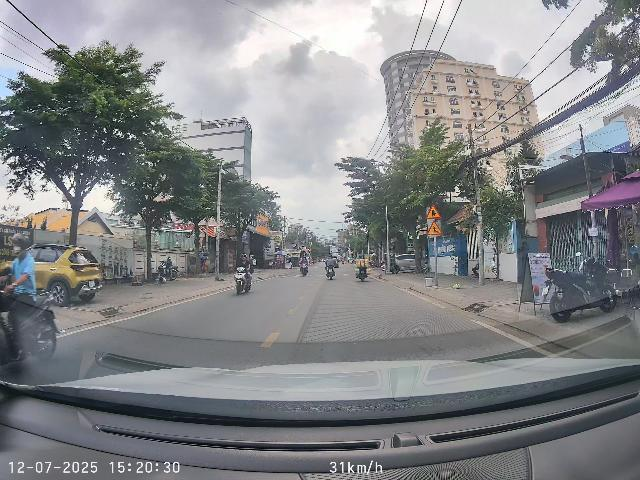207-giao-nhau-voi-duong-khong-uu-tien: (426, 204, 442, 219)
224-duong-nguoi-di-bo-cat-ngang: (427, 220, 443, 235)
